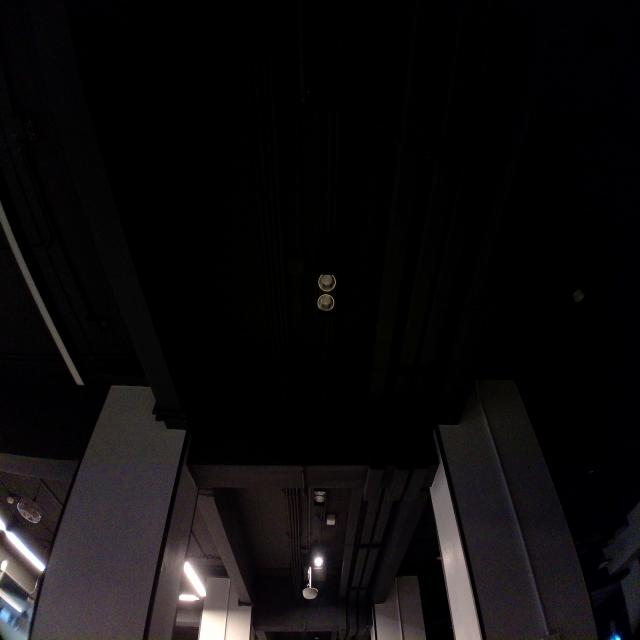lamp1_off: (301, 246, 352, 344)
